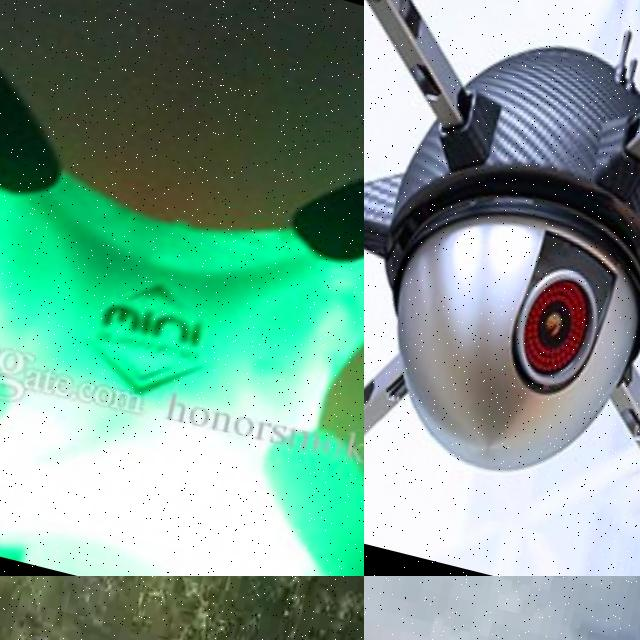drone: (0, 0, 364, 576), (364, 0, 640, 576)
